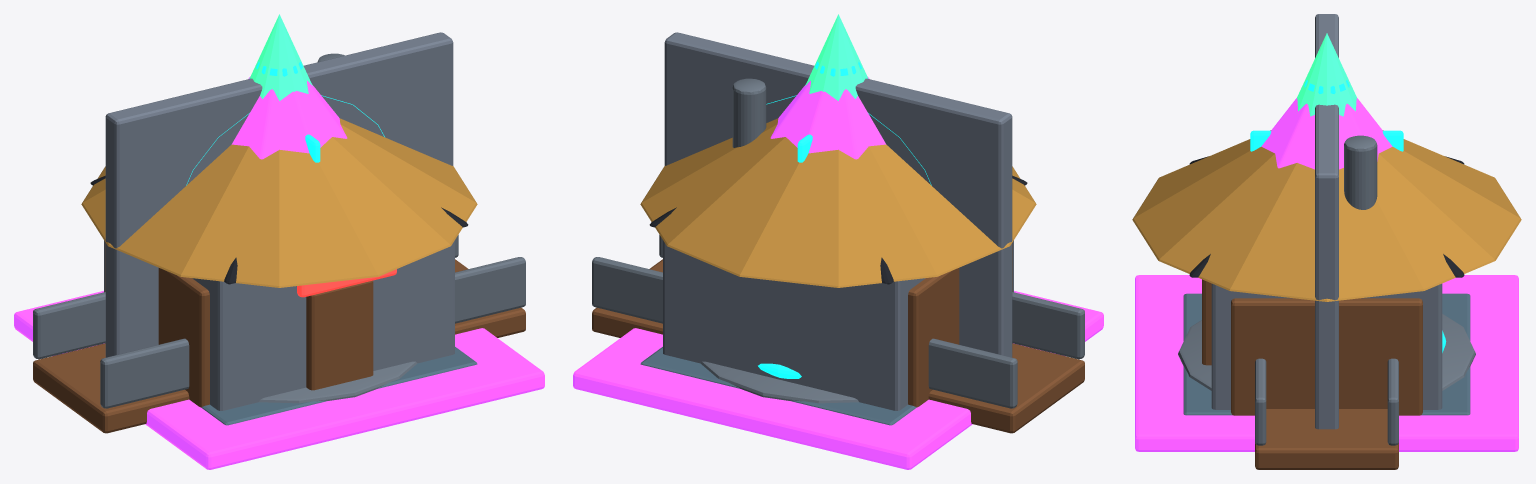
File: RF_StaticLibrary.glb
3 views of the same model, side by side, from view 1: azimuth 30°, elevation 25°; view 2: azimuth 150°, elevation 25°; view 3: azimuth 270°, elevation 25° (orthographic).
Visible parts, largest first — view 1: SM_RF_Landmark, SM_RF_DungeonWall, SM_RF_Blacksmith, SM_RF_Bridge, SM_RF_DungeonFloor, SM_RF_Boss_Eldritch, SM_RF_Stair, SM_RF_Tree, SM_RF_RoofTile, SM_RF_FlightPoint; view 2: SM_RF_Landmark, SM_RF_DungeonWall, SM_RF_Blacksmith, SM_RF_Bridge, SM_RF_DungeonFloor, SM_RF_Boss_Eldritch, SM_RF_Stair, SM_RF_FlightPoint, SM_RF_Tree, SM_RF_RoofTile; view 3: SM_RF_Landmark, SM_RF_DungeonFloor, SM_RF_Stair, SM_RF_Bridge, SM_RF_Blacksmith, SM_RF_DungeonWall, SM_RF_Boss_Eldritch, SM_RF_RoofTile, SM_RF_FlightPoint, SM_RF_Tree, SM_RF_Boat.
Part boxes in pixels (left/top/right/bottom): SM_RF_Landmark: left=81, top=118, right=477, bottom=287; SM_RF_DungeonWall: left=105, top=32, right=453, bottom=357; SM_RF_Blacksmith: left=90, top=53, right=468, bottom=410; SM_RF_Bridge: left=33, top=235, right=525, bottom=433; SM_RF_DungeonFloor: left=14, top=291, right=544, bottom=469; SM_RF_Boss_Eldritch: left=186, top=76, right=384, bottom=185; SM_RF_Stair: left=105, top=242, right=209, bottom=407; SM_RF_Tree: left=249, top=14, right=312, bottom=100; SM_RF_RoofTile: left=201, top=347, right=477, bottom=425; SM_RF_FlightPoint: left=259, top=361, right=417, bottom=403; SM_RF_Landmark: left=640, top=118, right=1036, bottom=287; SM_RF_DungeonWall: left=664, top=32, right=1012, bottom=357; SM_RF_Blacksmith: left=649, top=78, right=1027, bottom=410; SM_RF_Bridge: left=592, top=235, right=1084, bottom=433; SM_RF_DungeonFloor: left=573, top=291, right=1103, bottom=469; SM_RF_Boss_Eldritch: left=766, top=76, right=931, bottom=185; SM_RF_Stair: left=908, top=242, right=1012, bottom=407; SM_RF_FlightPoint: left=700, top=361, right=858, bottom=403; SM_RF_Tree: left=805, top=14, right=868, bottom=100; SM_RF_RoofTile: left=640, top=347, right=916, bottom=425; SM_RF_Landmark: left=1132, top=130, right=1521, bottom=301; SM_RF_DungeonFloor: left=1135, top=275, right=1518, bottom=451; SM_RF_Stair: left=1231, top=298, right=1422, bottom=415; SM_RF_Bridge: left=1255, top=358, right=1398, bottom=469; SM_RF_Blacksmith: left=1189, top=135, right=1464, bottom=409; SM_RF_DungeonWall: left=1315, top=14, right=1338, bottom=429; SM_RF_Boss_Eldritch: left=1261, top=98, right=1392, bottom=169; SM_RF_RoofTile: left=1183, top=293, right=1470, bottom=415; SM_RF_FlightPoint: left=1178, top=314, right=1475, bottom=390; SM_RF_Tree: left=1297, top=33, right=1356, bottom=116; SM_RF_Boat: left=1250, top=130, right=1403, bottom=408.
Bounding box in the file's own units: 5 × 4.68 × 4.06.
